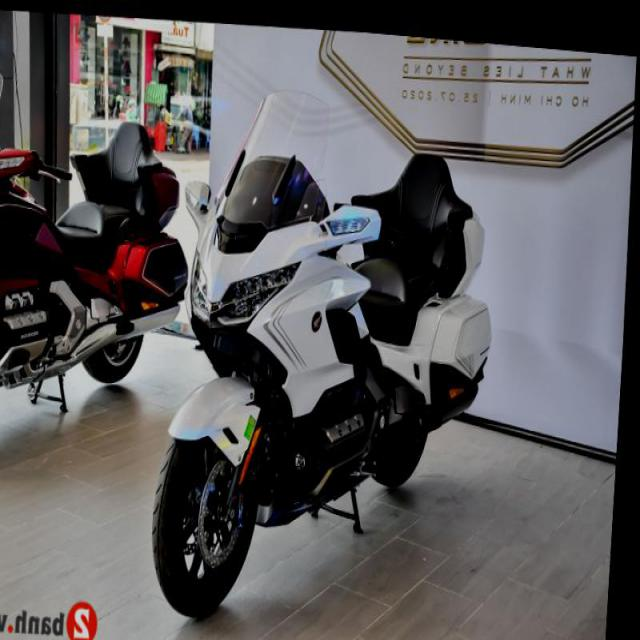Gold Wing: (148, 68, 512, 632)
